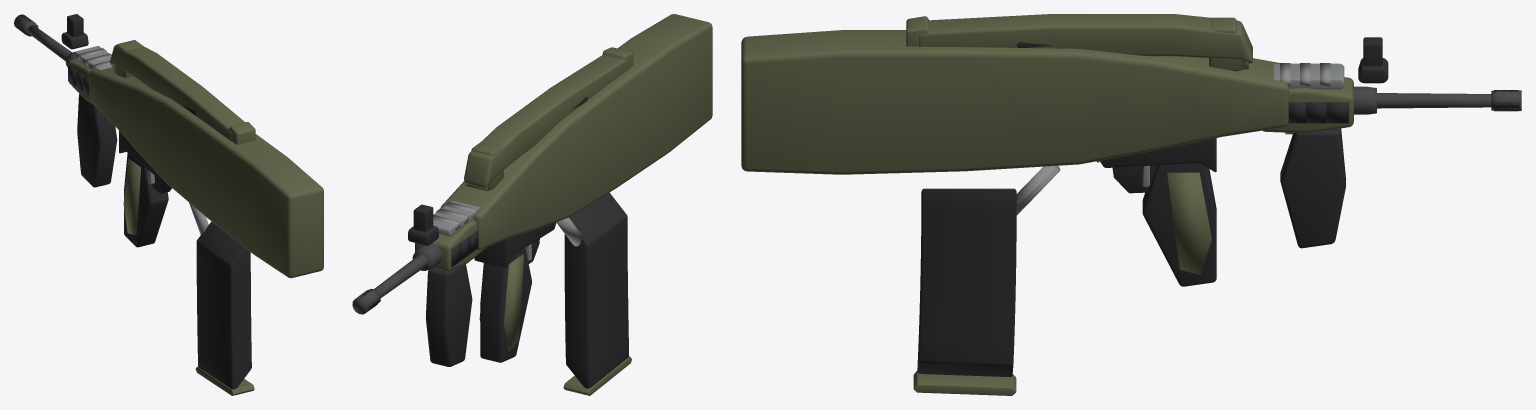
The model's file is aug.glb.
The picture shows the model from 3 angles, left to right: view 1: azimuth 30°, elevation 25°; view 2: azimuth 150°, elevation 25°; view 3: azimuth 270°, elevation 25°; orthographic projection. The views are drawn at different scales.
Visible parts, largest first — view 1: CarryHandle_Batched, MagazineBody, ForendVent0_-1_Batched, Barrel_Batched, ForendRail_Batched, MagazineBodyFloorPlate, TriggerHousing; view 2: CarryHandle_Batched, MagazineBody, ForendVent0_-1_Batched, Barrel_Batched, TriggerHousing, ForendRail_Batched, MagazineBodyFloorPlate, ChargingHandle; view 3: CarryHandle_Batched, MagazineBody, ForendVent0_-1_Batched, Barrel_Batched, MagazineBodyFloorPlate, TriggerHousing, ForendRail_Batched, ChargingHandle, TriggerAssemblyGuard.
Boxes of the visible parts, <box> form: CarryHandle_Batched: <box>68,40,323,278</box>; MagazineBody: <box>196,221,251,389</box>; ForendVent0_-1_Batched: <box>14,14,195,247</box>; Barrel_Batched: <box>14,14,75,67</box>; ForendRail_Batched: <box>74,46,111,69</box>; MagazineBodyFloorPlate: <box>195,366,254,395</box>; TriggerHousing: <box>119,131,162,179</box>; CarryHandle_Batched: <box>415,14,712,351</box>; MagazineBody: <box>564,192,628,388</box>; ForendVent0_-1_Batched: <box>352,96,587,366</box>; Barrel_Batched: <box>352,242,441,314</box>; TriggerHousing: <box>474,222,556,267</box>; ForendRail_Batched: <box>433,200,479,236</box>; MagazineBodyFloorPlate: <box>563,356,631,395</box>; ChargingHandle: <box>556,217,581,246</box>; CarryHandle_Batched: <box>741,14,1353,274</box>; MagazineBody: <box>917,188,1016,376</box>; ForendVent0_-1_Batched: <box>1016,37,1519,286</box>; Barrel_Batched: <box>1352,86,1521,114</box>; MagazineBodyFloorPlate: <box>913,371,1016,395</box>; TriggerHousing: <box>1100,138,1216,172</box>; ForendRail_Batched: <box>1273,63,1344,134</box>; ChargingHandle: <box>1016,165,1060,215</box>; TriggerAssemblyGuard: <box>1112,165,1157,193</box>.
Bounding box in the file's own units: 0.06 × 0.4279 × 0.819.
